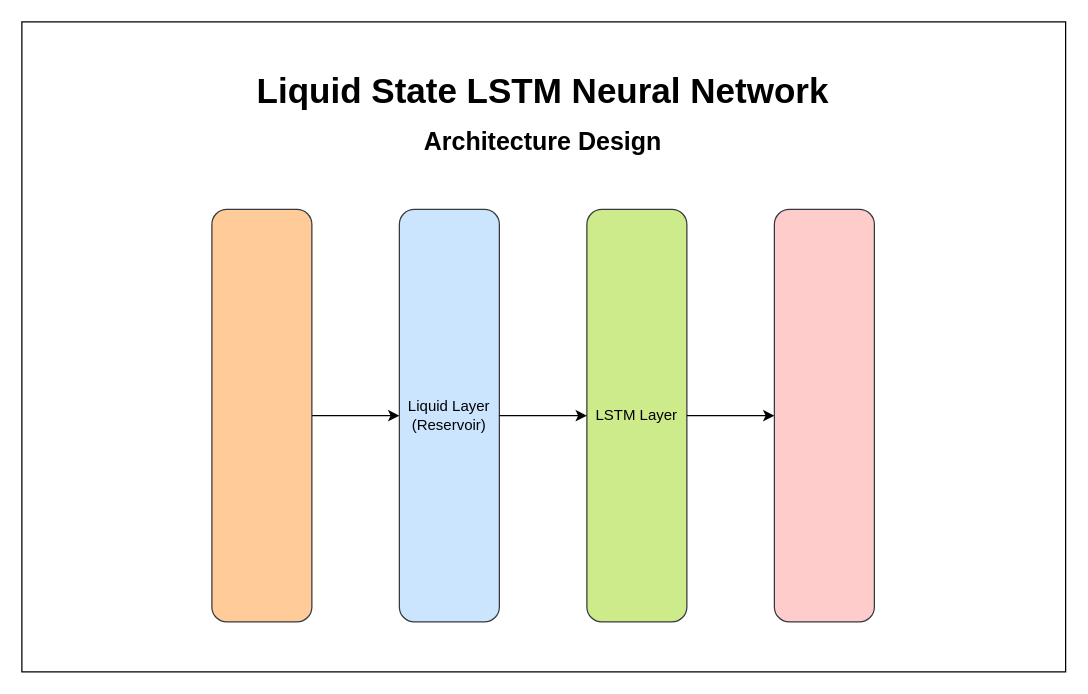
Some shapes in this 1088 by 694 pixel diagram are drawn without their labels. Each missing label, with the box of its shape:
Input Layer: (211, 208, 312, 622)
Output Layer: (773, 208, 874, 622)
